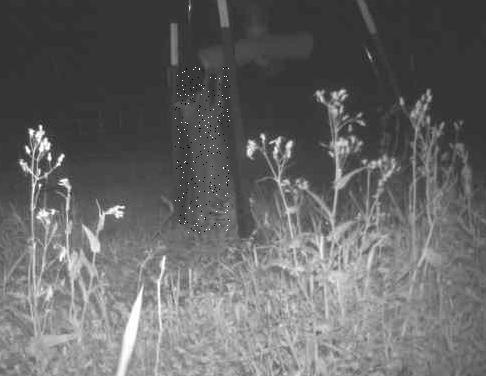Raccoon: (175, 67, 230, 233)
